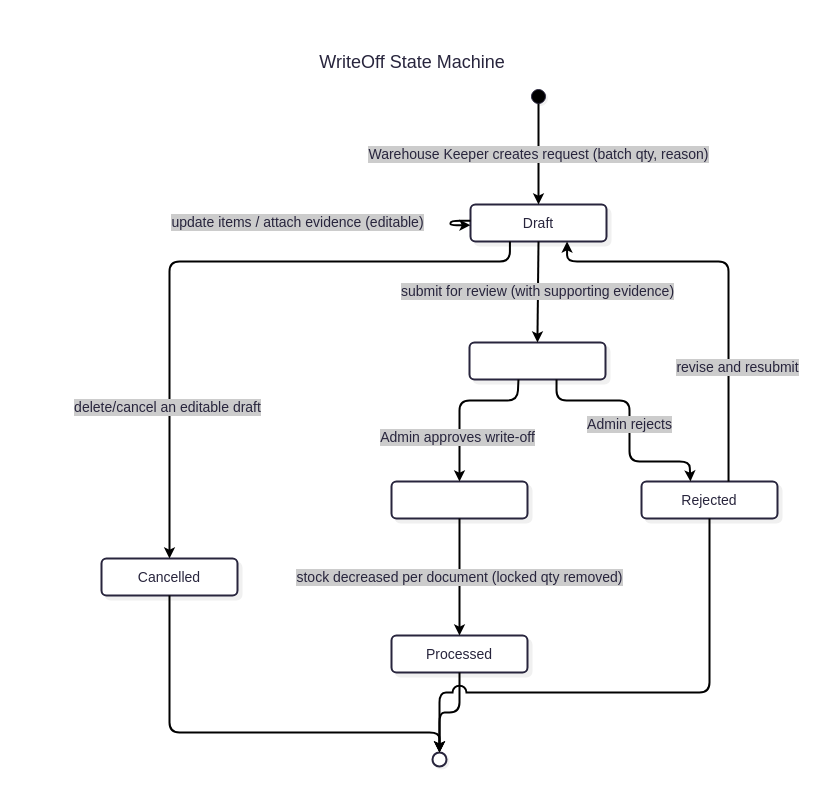
Some shapes in this 815 by 786 pixel diagram are drawn without their labels. The shapes that lost their labels are listed below. From the top down, each one's centre as x and y in pixels, then its label:
At [539,362]: "Submitted".
At [461,501]: "Approved".
